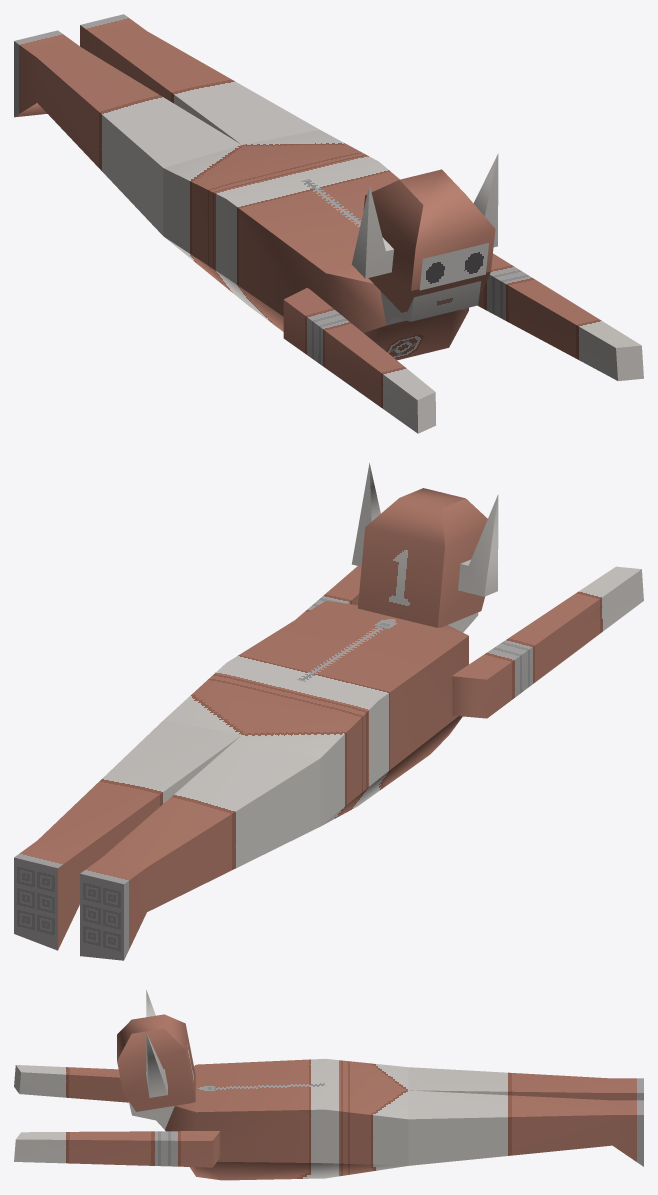
The model's file is 040c_Fly_Jumboman.glb.
3 views of the same model, one above another, from view 1: azimuth 30°, elevation 25°; view 2: azimuth 150°, elevation 25°; view 3: azimuth 270°, elevation 25° (orthographic). The views are drawn at different scales.
Visible parts, largest first — view 1: part_0; view 2: part_0; view 3: part_0.
Part boxes in pixels (bbox=[...]): part_0: bbox=[14, 14, 643, 433]; part_0: bbox=[14, 463, 643, 960]; part_0: bbox=[14, 990, 643, 1180].
Size of the model in its own units: 15.91 by 15.05 by 56.37.
Materials: 1 (1 with a texture image).
